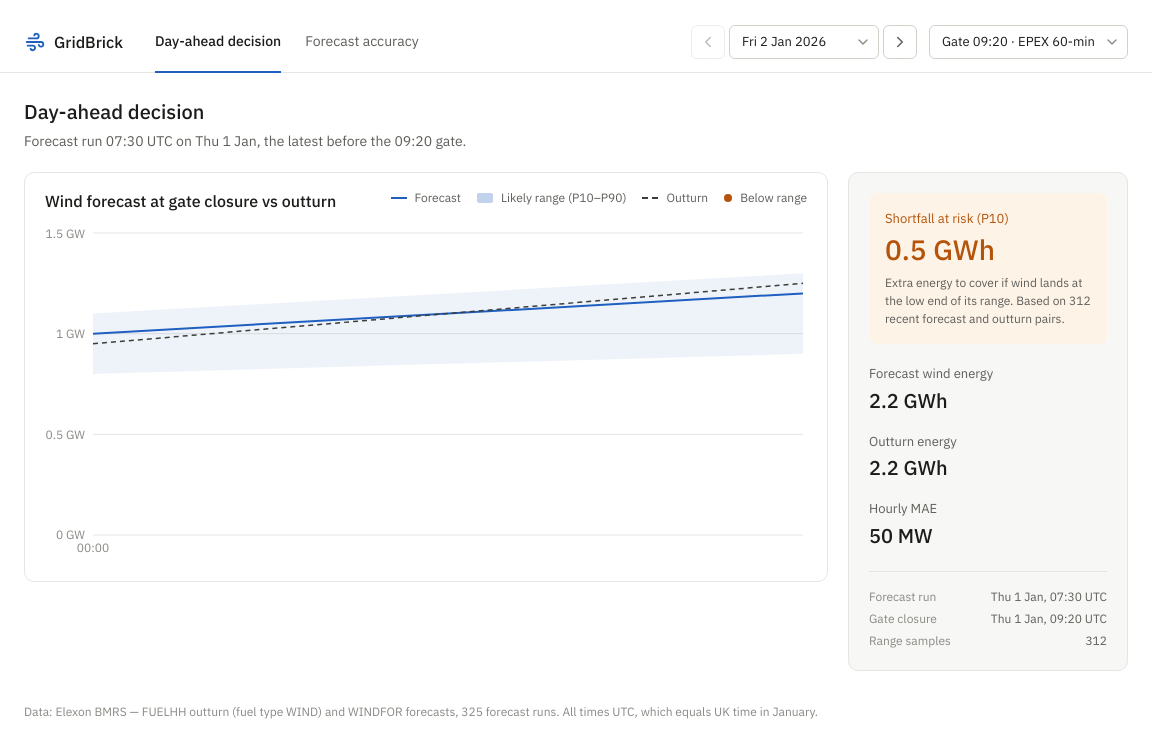
Test case: switches tabs and swaps the top-bar controls
expect the text "Shortfall at risk (P10)" is shown: met, box [885,210,1009,227]
expect the 1st dropdown named "Delivery day" is shown: met, box [729,25,879,59]
Click the button "Forecast accuracy": (362, 42) [305,12,419,73]
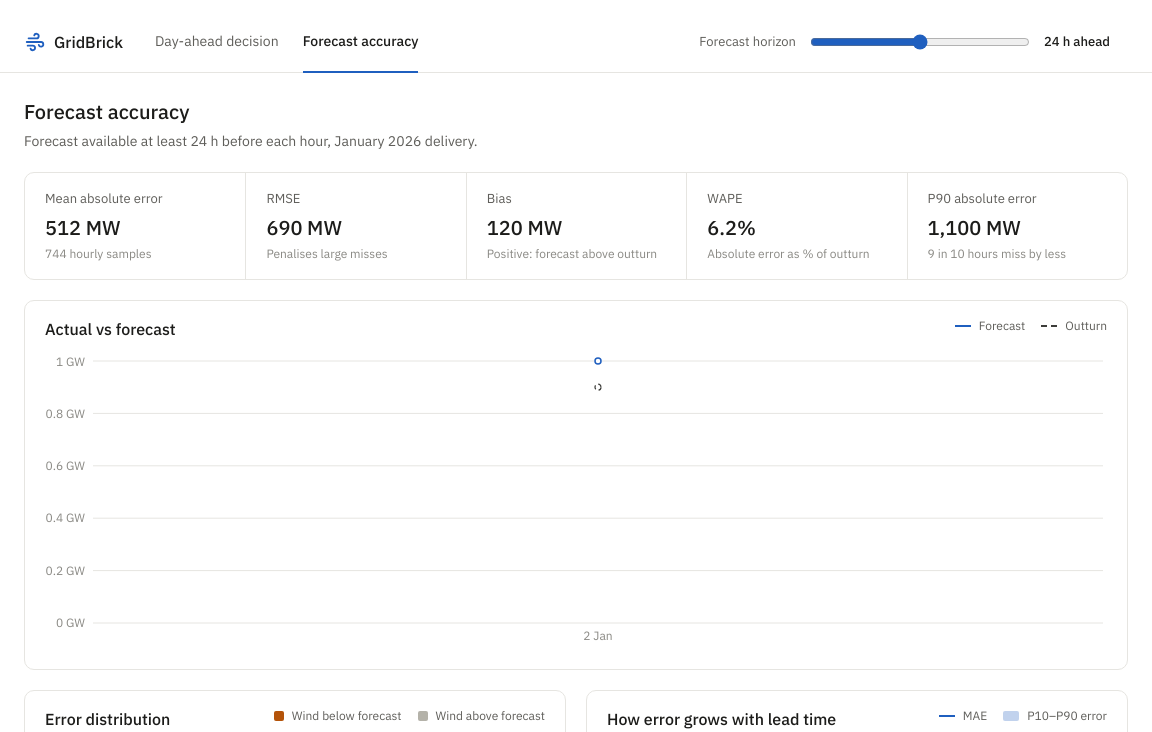
expect the field labelled "Delivery day" is not shown: met
expect the text "Mean absolute error" is shown: met, box [45,190,162,207]
expect the slider labelled "Forecast horizon" is shown: met, box [810,34,1030,50]
